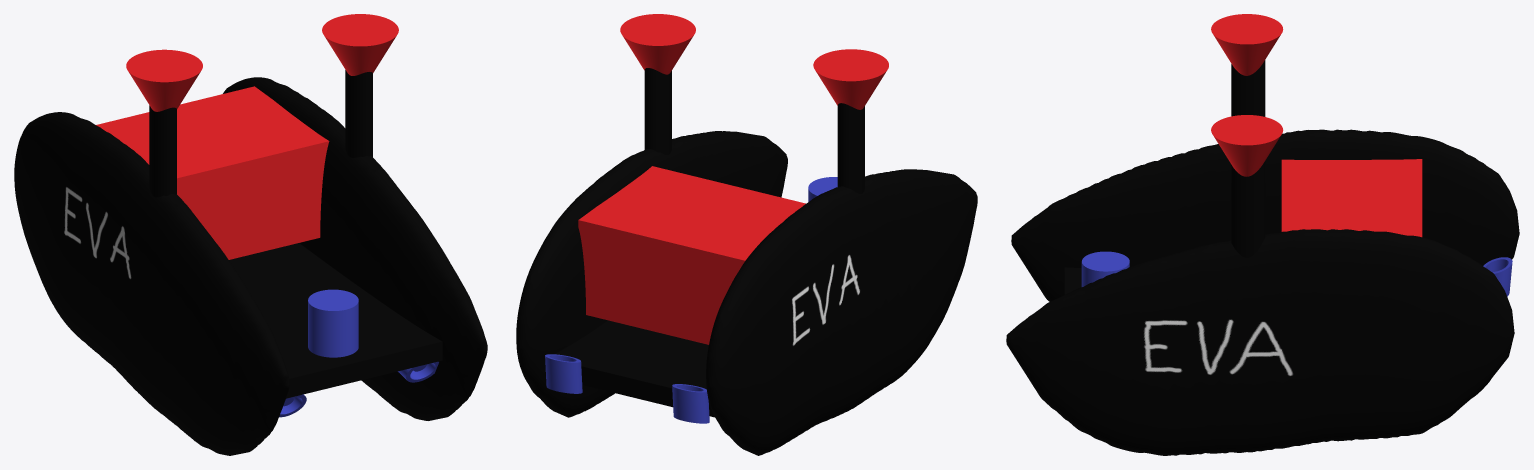
The model's file is eva.fbx.
3 views of the same model, side by side, from view 1: azimuth 30°, elevation 25°; view 2: azimuth 150°, elevation 25°; view 3: azimuth 270°, elevation 25° (orthographic). The views are drawn at different scales.
Parts seen in each view (by area): view 1: root (×5), node_id260 (×2), node_id268 (×2); view 2: root (×4), node_id260 (×2), node_id268 (×2), node_id230, node_id208; view 3: root (×4), node_id268 (×2), node_id260 (×2), node_id208.
Part boxes in pixels (x1,y1,x2,y2): root (×5): [14, 77, 487, 455]; node_id260 (×2): [126, 49, 202, 197]; node_id268 (×2): [322, 14, 398, 157]; root (×4): [516, 131, 977, 455]; node_id260 (×2): [813, 49, 888, 193]; node_id268 (×2): [620, 14, 695, 154]; node_id230: [545, 354, 582, 393]; node_id208: [672, 384, 709, 423]; root (×4): [1006, 129, 1519, 455]; node_id268 (×2): [1211, 115, 1283, 257]; node_id260 (×2): [1211, 14, 1283, 116]; node_id208: [1483, 257, 1512, 296].
Bounding box in the file's own units: 0.1992 × 0.2611 × 0.3598.
Materials: 9 (6 with a texture image).
